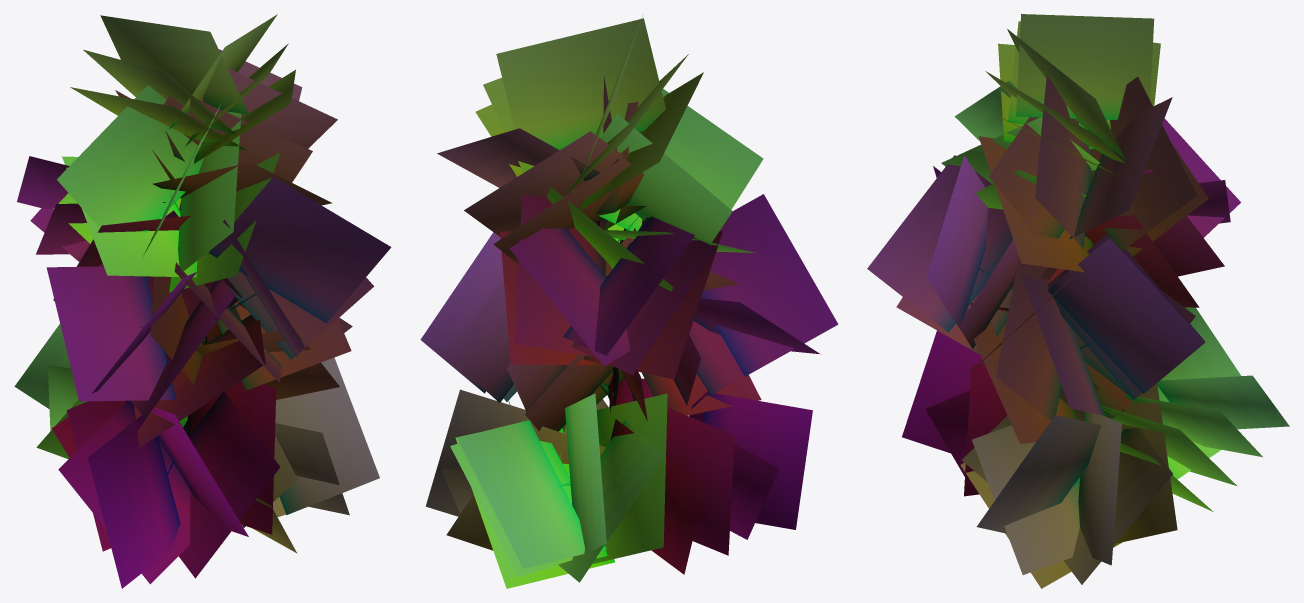
Rendered from URP_P15_Tree_9_LOD_2.fbx.
3 views of the same model, side by side, from view 1: azimuth 30°, elevation 25°; view 2: azimuth 150°, elevation 25°; view 3: azimuth 270°, elevation 25° (orthographic). The views are drawn at different scales.
Visible parts, largest first — view 1: Tree_9_LOD_2; view 2: Tree_9_LOD_2; view 3: Tree_9_LOD_2.
Boxes of the visible parts, bbox=[...] form: Tree_9_LOD_2: bbox=[14, 14, 391, 588]; Tree_9_LOD_2: bbox=[420, 15, 838, 588]; Tree_9_LOD_2: bbox=[867, 14, 1289, 588].
Bounding box in the file's own units: 473 × 767 × 555.
